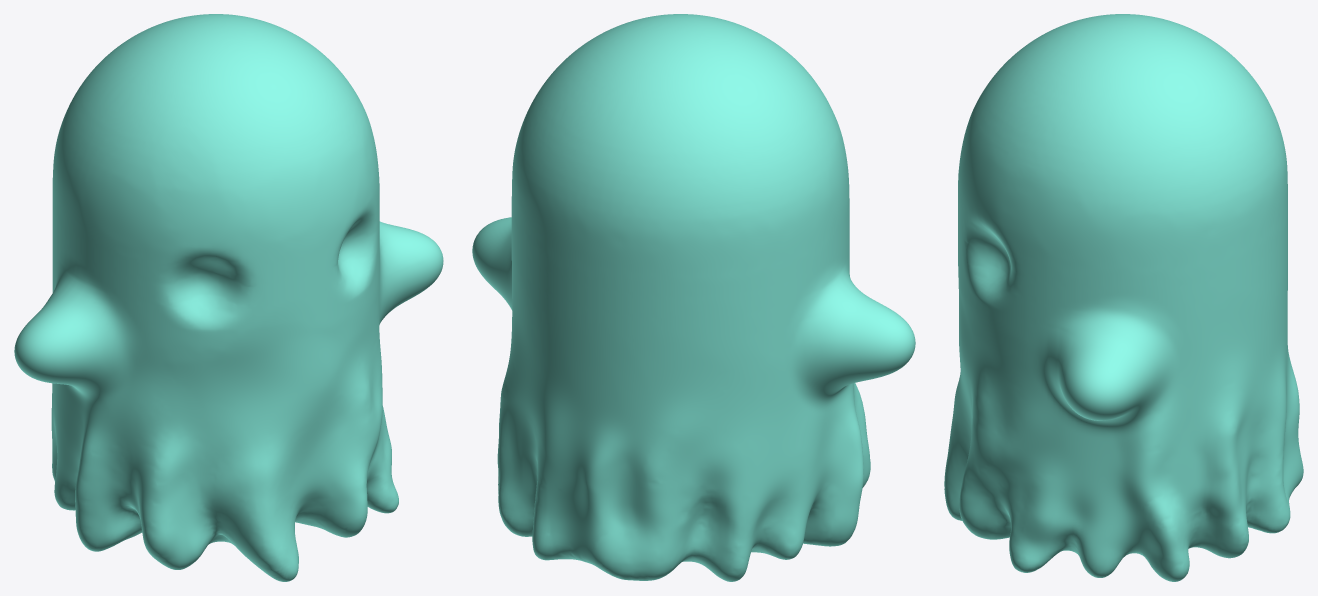
The model's file is PlayerGhost v3.02.fbx.
3 views of the same model, side by side, from view 1: azimuth 30°, elevation 25°; view 2: azimuth 150°, elevation 25°; view 3: azimuth 270°, elevation 25° (orthographic). The views are drawn at different scales.
Parts seen in each view (by area): view 1: Ghost_v3; view 2: Ghost_v3; view 3: Ghost_v3.
Part boxes in pixels (x1,y1,x2,y2): Ghost_v3: (14, 14, 443, 581); Ghost_v3: (472, 14, 915, 581); Ghost_v3: (944, 14, 1303, 581).
Bounding box in the file's own units: 2.58 × 2.87 × 1.89.
